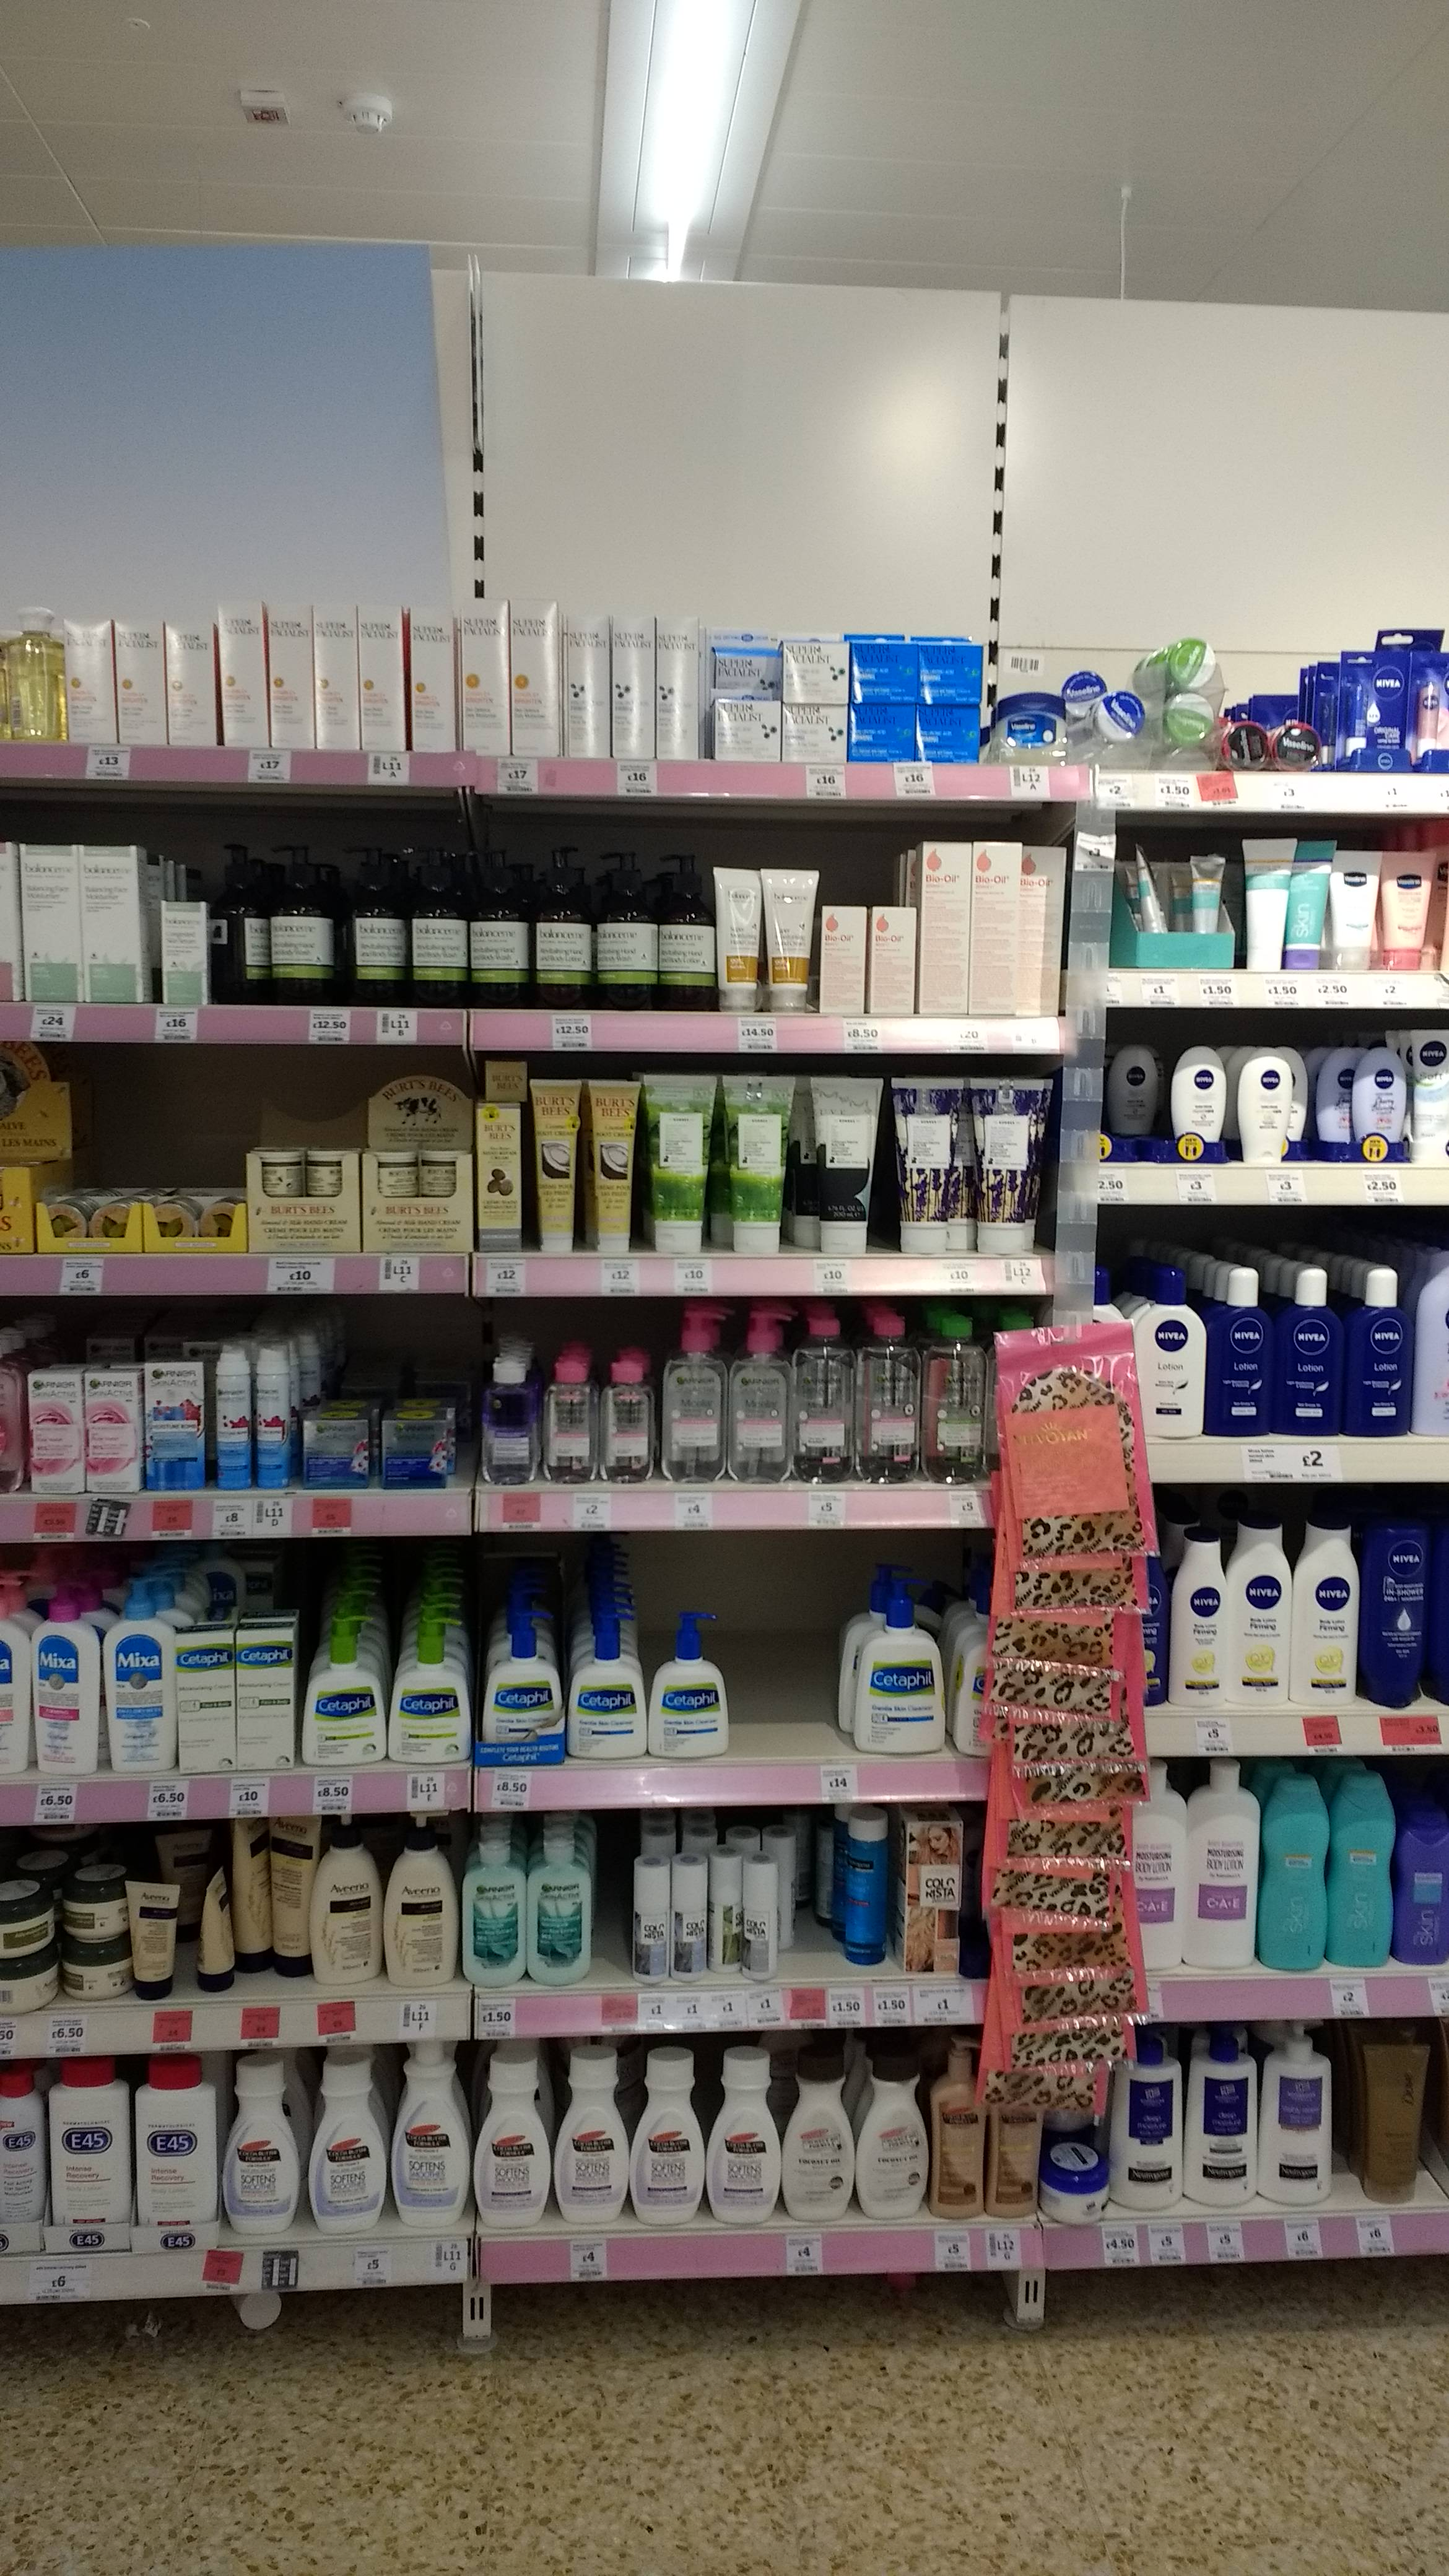Out-of-stock: (728, 1531, 850, 1758)
